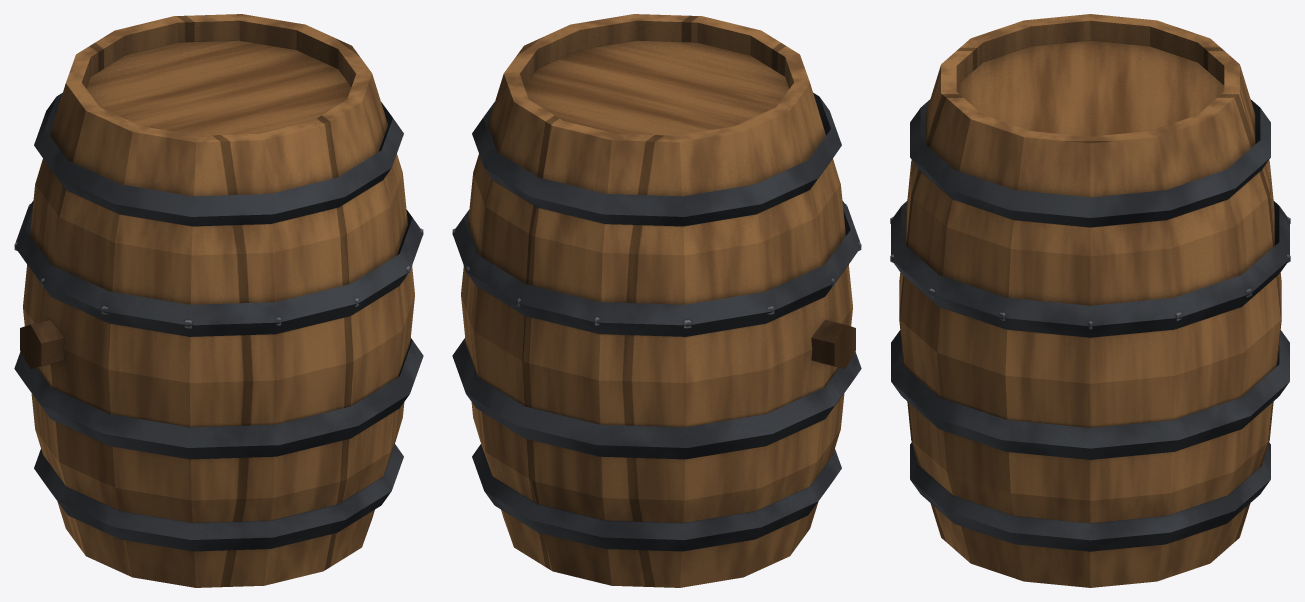
File: barril_madera.fbx
3 views of the same model, side by side, from view 1: azimuth 30°, elevation 25°; view 2: azimuth 150°, elevation 25°; view 3: azimuth 270°, elevation 25° (orthographic).
Visible parts, largest first — view 1: barril_madera; view 2: barril_madera; view 3: barril_madera.
Part boxes in pixels (box(x1,y1,x2,y2)): barril_madera: box(14, 14, 423, 587); barril_madera: box(452, 14, 861, 587); barril_madera: box(890, 14, 1290, 587).
Bounding box in the file's own units: 3.44 × 4 × 3.26.
1 material, 1 textured.
